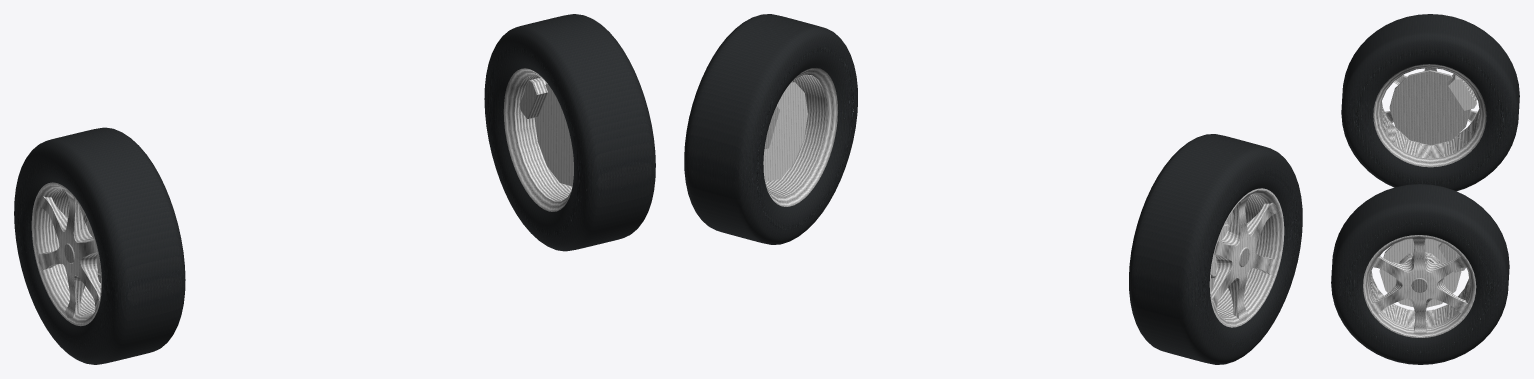
Rendered from Llantasdelanteras.obj.
The picture shows the model from 3 angles, left to right: view 1: azimuth 30°, elevation 25°; view 2: azimuth 150°, elevation 25°; view 3: azimuth 270°, elevation 25°; orthographic projection. The views are drawn at different scales.
Bounding box in the file's own units: 79.2 × 30.07 × 31.08.
2 materials, 2 textured.
